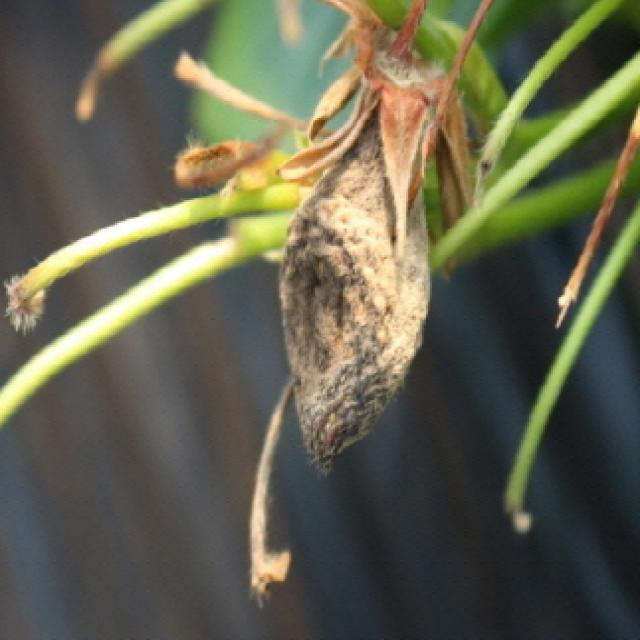Gray Mold: (274, 0, 470, 479)
